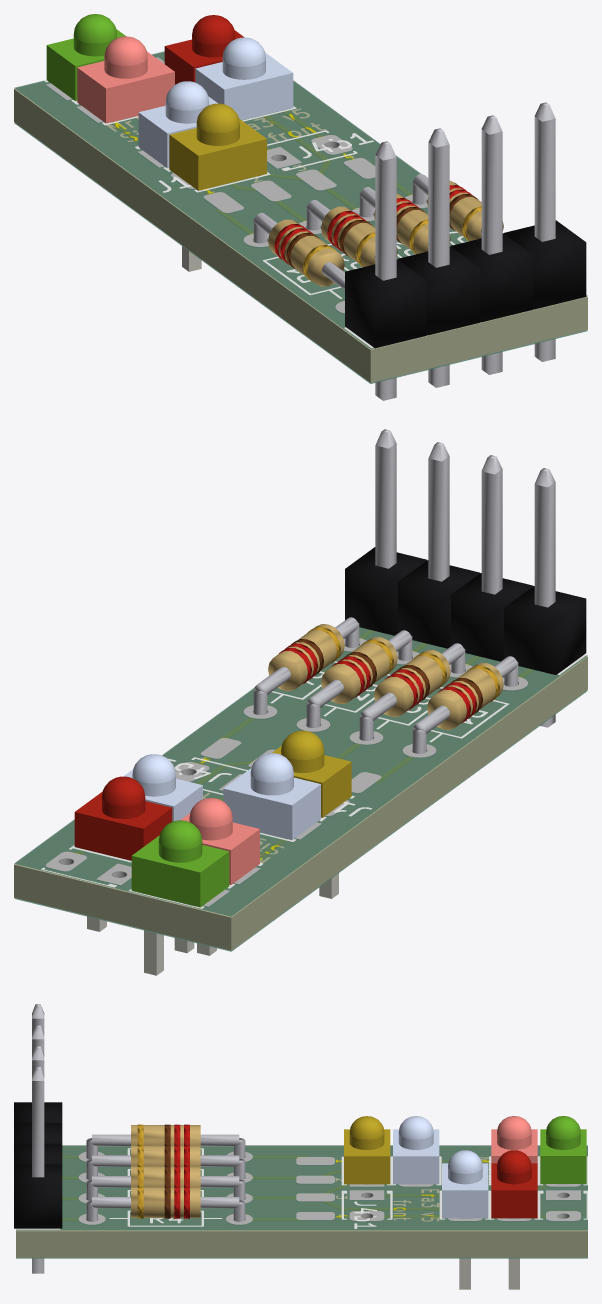
Rendered from MrJ-DB-Era3-breadboard-exit-Hp0+Sh1.glb.
3 views of the same model, one above another, from view 1: azimuth 30°, elevation 25°; view 2: azimuth 150°, elevation 25°; view 3: azimuth 270°, elevation 25° (orthographic). The views are drawn at different scales.
Visible parts, largest first — view 1: =>[0:1:1:21], =>[0:1:1:3] (×4), =>[0:1:1:19], =>[0:1:1:5] (×4), =>[0:1:1:15] (×2), =>[0:1:1:13], =>[0:1:1:11], =>[0:1:1:17], =>[0:1:1:9], =>[0:1:1:7], =>[0:1:1:18], =>[0:1:1:16] (+1 smaller); view 2: =>[0:1:1:21], =>[0:1:1:3] (×4), =>[0:1:1:19], =>[0:1:1:5] (×4), =>[0:1:1:15] (×2), =>[0:1:1:9], =>[0:1:1:7], =>[0:1:1:17], =>[0:1:1:13], =>[0:1:1:11], =>[0:1:1:18], =>[0:1:1:16] (+1 smaller); view 3: =>[0:1:1:21], =>[0:1:1:19], =>[0:1:1:5] (×4), =>[0:1:1:3] (×4), =>[0:1:1:15] (×2), =>[0:1:1:17], =>[0:1:1:7], =>[0:1:1:13], =>[0:1:1:9], =>[0:1:1:18], =>[0:1:1:11], =>[0:1:1:20] (+1 smaller).
Boxes of the visible parts, bbox=[...] form: =>[0:1:1:21]: bbox=[14, 53, 587, 382]; =>[0:1:1:3] (×4): bbox=[345, 102, 586, 400]; =>[0:1:1:19]: bbox=[14, 51, 587, 348]; =>[0:1:1:5] (×4): bbox=[253, 174, 503, 289]; =>[0:1:1:15] (×2): bbox=[138, 37, 293, 168]; =>[0:1:1:13]: bbox=[169, 103, 266, 271]; =>[0:1:1:11]: bbox=[77, 36, 174, 123]; =>[0:1:1:17]: bbox=[46, 57, 427, 313]; =>[0:1:1:9]: bbox=[46, 14, 125, 100]; =>[0:1:1:7]: bbox=[164, 15, 243, 84]; =>[0:1:1:18]: bbox=[43, 50, 586, 347]; =>[0:1:1:16]: bbox=[112, 111, 412, 234]; =>[0:1:1:21]: bbox=[14, 628, 587, 950]; =>[0:1:1:3] (×4): bbox=[345, 429, 586, 727]; =>[0:1:1:19]: bbox=[14, 627, 587, 916]; =>[0:1:1:5] (×4): bbox=[253, 617, 518, 753]; =>[0:1:1:15] (×2): bbox=[123, 753, 320, 839]; =>[0:1:1:9]: bbox=[131, 820, 229, 975]; =>[0:1:1:7]: bbox=[74, 776, 172, 931]; =>[0:1:1:17]: bbox=[45, 638, 528, 906]; =>[0:1:1:13]: bbox=[272, 730, 351, 898]; =>[0:1:1:11]: bbox=[174, 798, 259, 953]; =>[0:1:1:18]: bbox=[41, 654, 586, 908]; =>[0:1:1:16]: bbox=[75, 630, 532, 860]; =>[0:1:1:21]: bbox=[16, 1147, 587, 1257]; =>[0:1:1:19]: bbox=[16, 1145, 587, 1230]; =>[0:1:1:5] (×4): bbox=[86, 1124, 245, 1221]; =>[0:1:1:3] (×4): bbox=[14, 1004, 62, 1273]; =>[0:1:1:15] (×2): bbox=[393, 1116, 488, 1289]; =>[0:1:1:17]: bbox=[78, 1152, 580, 1224]; =>[0:1:1:7]: bbox=[491, 1150, 537, 1289]; =>[0:1:1:13]: bbox=[344, 1116, 390, 1184]; =>[0:1:1:9]: bbox=[540, 1116, 586, 1184]; =>[0:1:1:18]: bbox=[16, 1148, 587, 1229]; =>[0:1:1:11]: bbox=[491, 1116, 537, 1163]; =>[0:1:1:20]: bbox=[16, 1257, 587, 1258].
Size of the model in its own units: 0.0104 by 0.0127 by 0.0297.
